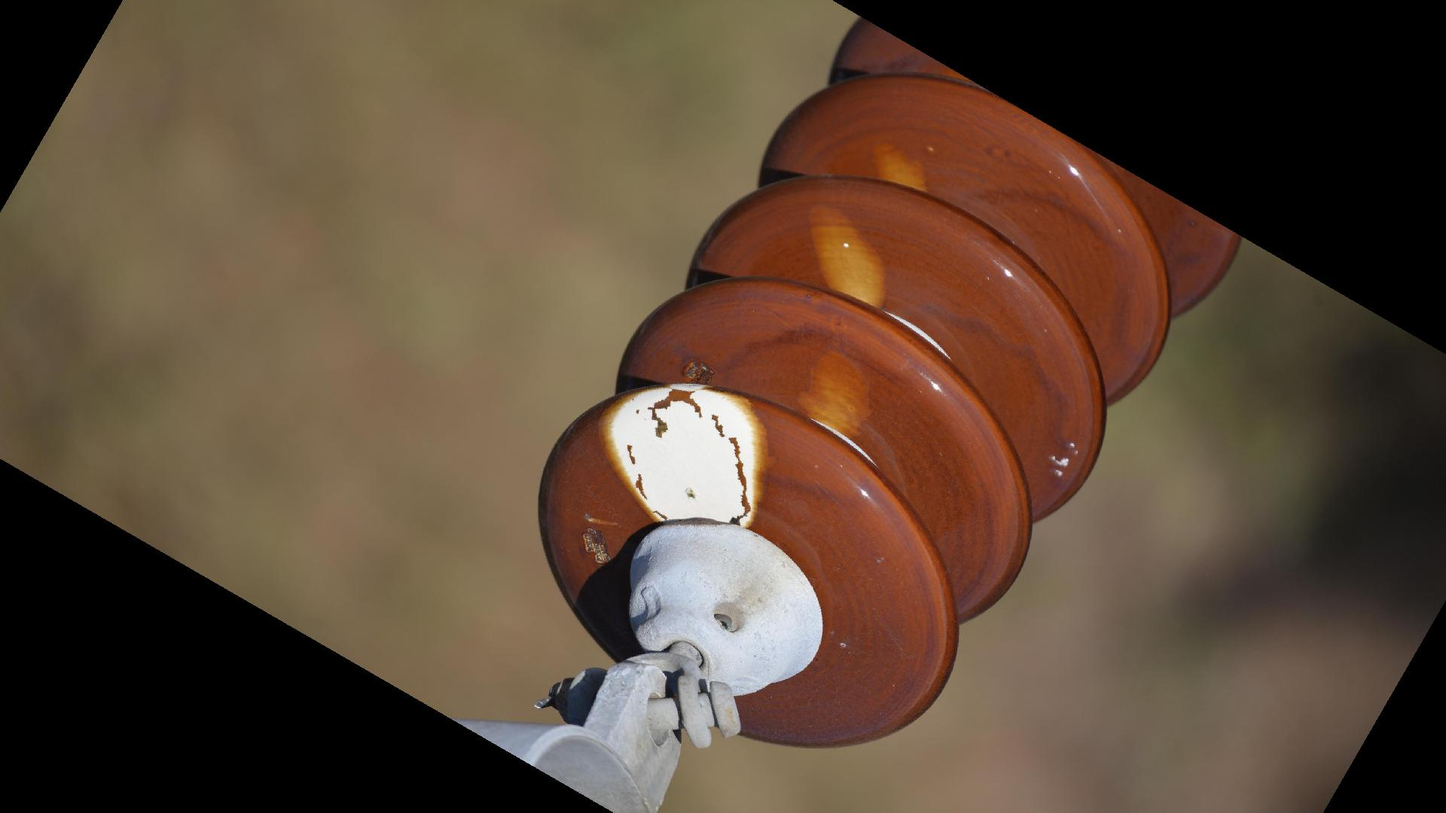insulator: (530, 9, 1258, 757)
insulator_flashover: (594, 383, 770, 534), (803, 203, 892, 315), (794, 349, 880, 442), (869, 139, 931, 196)
